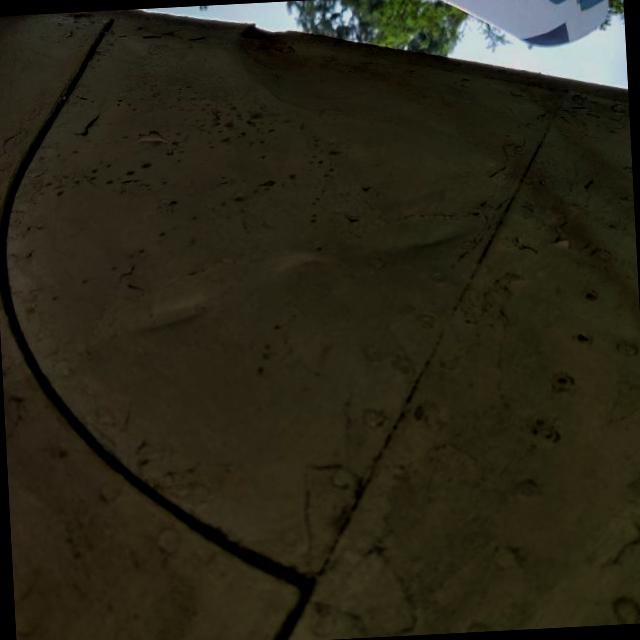dent: (365, 189, 493, 291), (108, 264, 236, 362)
